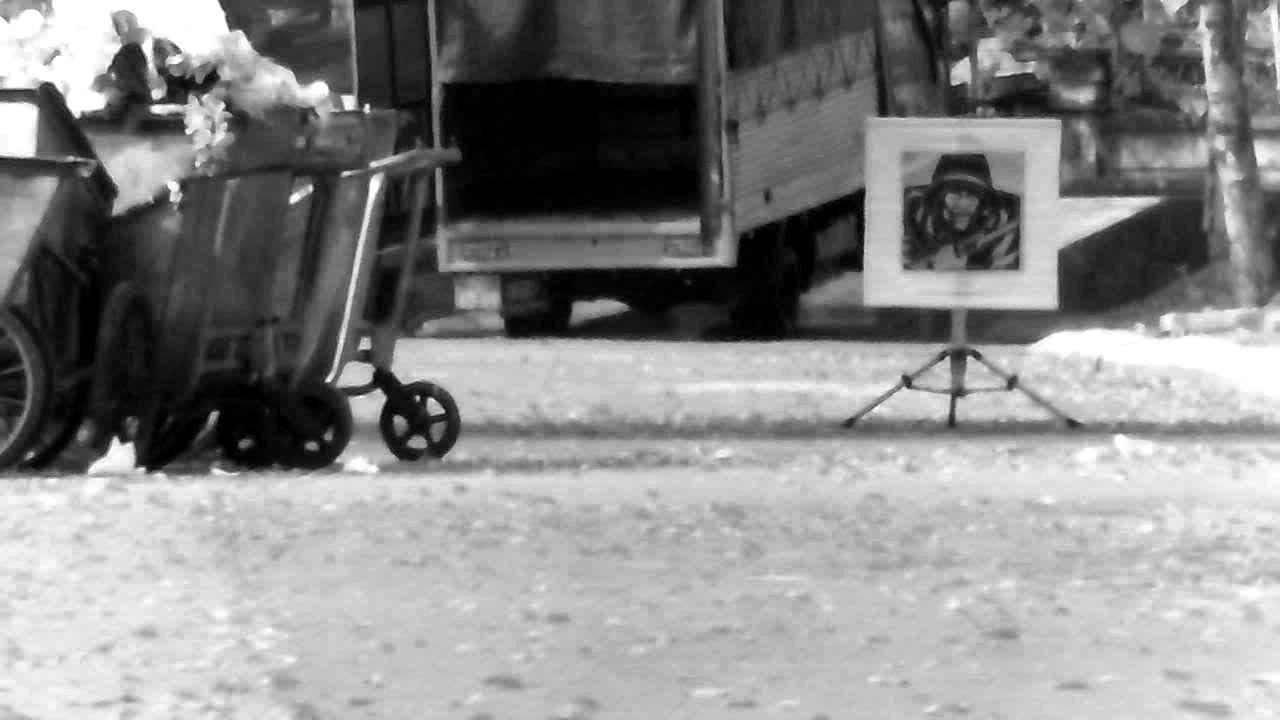bia: (901, 151, 1024, 271)
